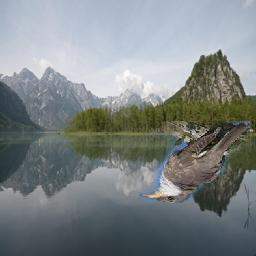Cuckoo: (140, 121, 251, 203)
